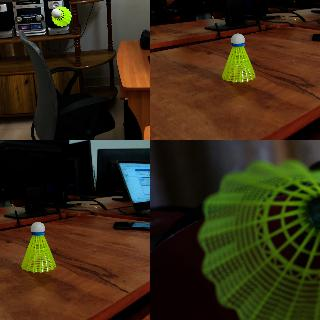shuttlecock: (197, 159, 319, 319), (20, 221, 56, 273), (220, 34, 256, 82), (51, 6, 71, 26)
